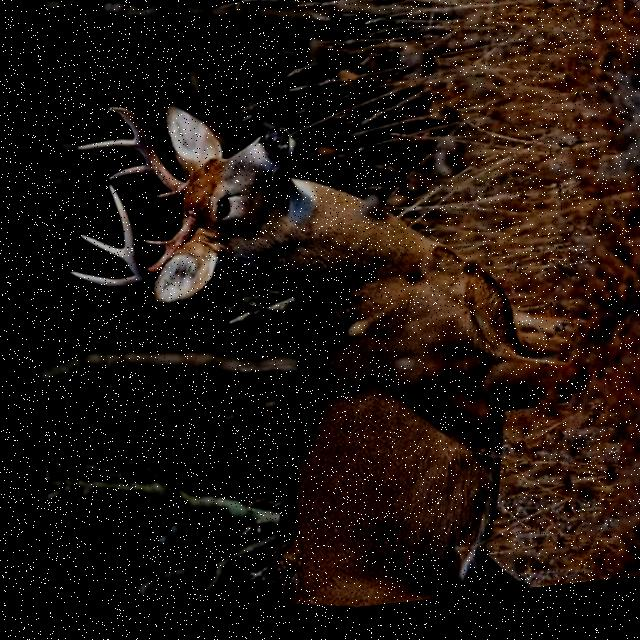L-G1: (151, 194, 174, 202)
L-G2: (105, 166, 152, 183)
L-G3: (104, 107, 184, 200), (73, 140, 136, 154)
R-G1: (138, 241, 165, 251)
R-G2: (63, 270, 137, 289)
R-G3: (103, 184, 197, 284), (74, 234, 119, 262)
